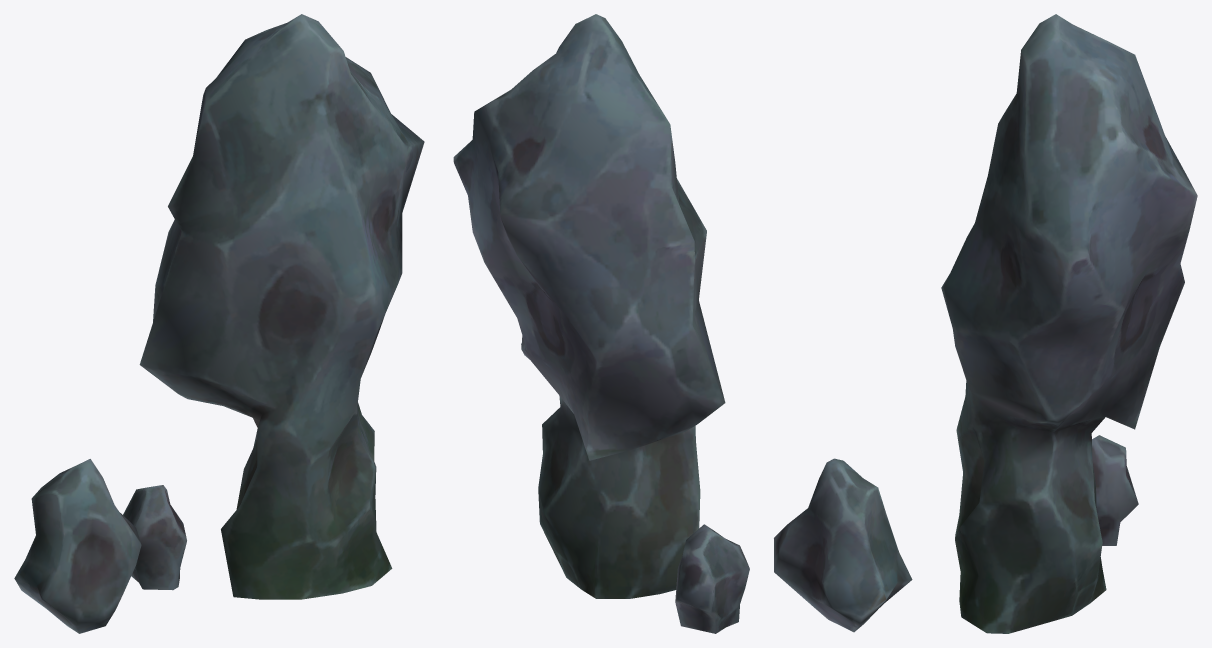
File: Homeworld_General_Common_Thing_Prop_Irodori_Bcackforward_02_Vo.fbx
The picture shows the model from 3 angles, left to right: view 1: azimuth 30°, elevation 25°; view 2: azimuth 150°, elevation 25°; view 3: azimuth 270°, elevation 25°; orthographic projection. The views are drawn at different scales.
Visible parts, largest first — view 1: Homeworld_General_Common_Thing_Prop_Irodori_Bcackforward_02_; view 2: Homeworld_General_Common_Thing_Prop_Irodori_Bcackforward_02_; view 3: Homeworld_General_Common_Thing_Prop_Irodori_Bcackforward_02_.
Boxes of the visible parts, x1,y1,x2,y2 form: Homeworld_General_Common_Thing_Prop_Irodori_Bcackforward_02_: [14, 14, 424, 633]; Homeworld_General_Common_Thing_Prop_Irodori_Bcackforward_02_: [453, 14, 912, 633]; Homeworld_General_Common_Thing_Prop_Irodori_Bcackforward_02_: [941, 14, 1197, 633].
Size of the model in its own units: 0.6841 by 0.8613 by 0.3389.
